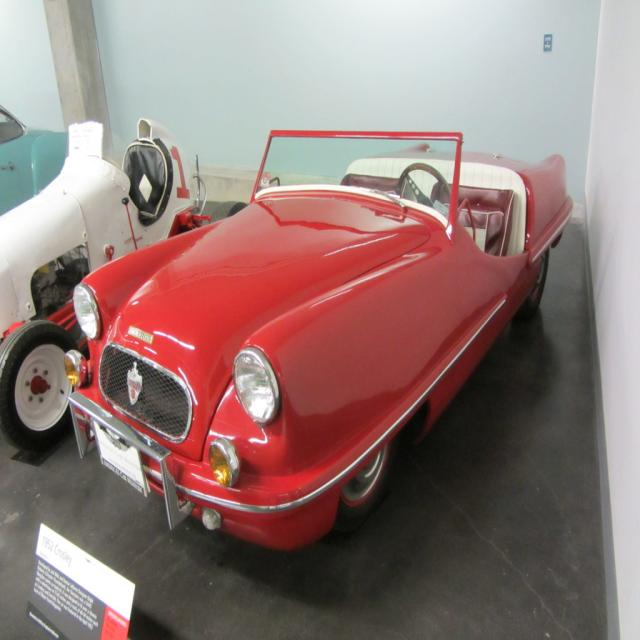car: (64, 122, 575, 558)
